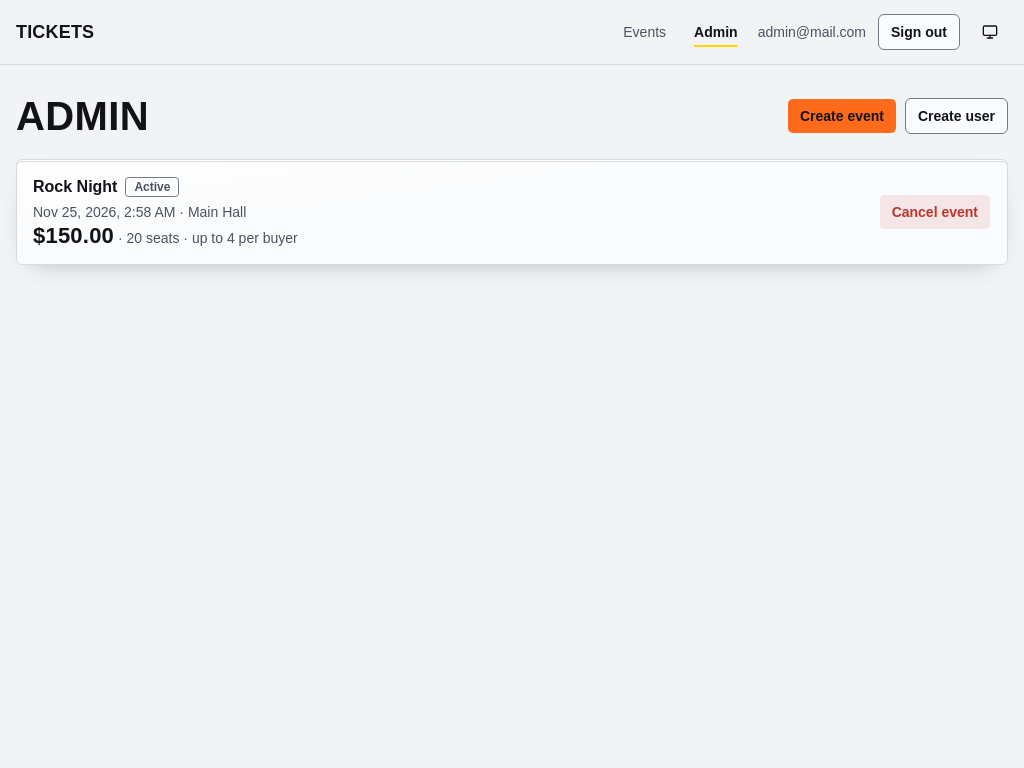
CancelEvent › explains what is lost, cancels on confirm and reports the counts
Click the button with aria-label "Cancel event Rock Night" at (935, 212), box [879,194,991,230]
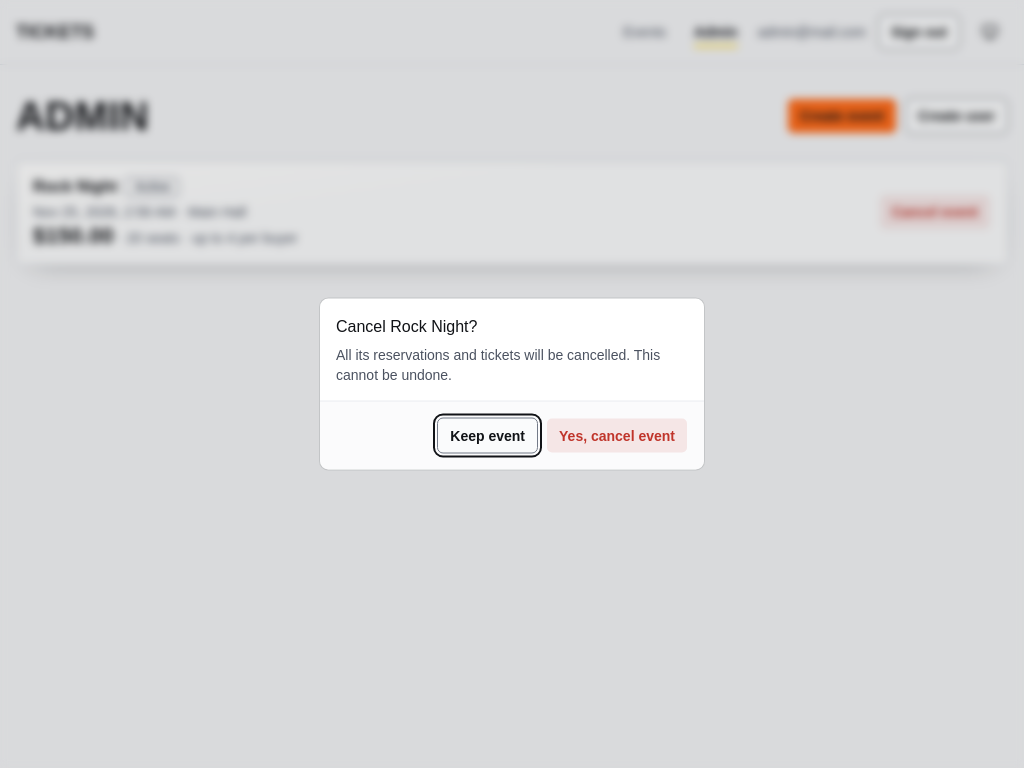
Expected: the dialog shows "All its reservations and tickets will be cancelled", [336,346,660,382]
Expected: the dialog shows "This cannot be undone", [336,346,660,382]
Click the button "Yes, cancel event" at (617, 436), box [546,418,688,454]
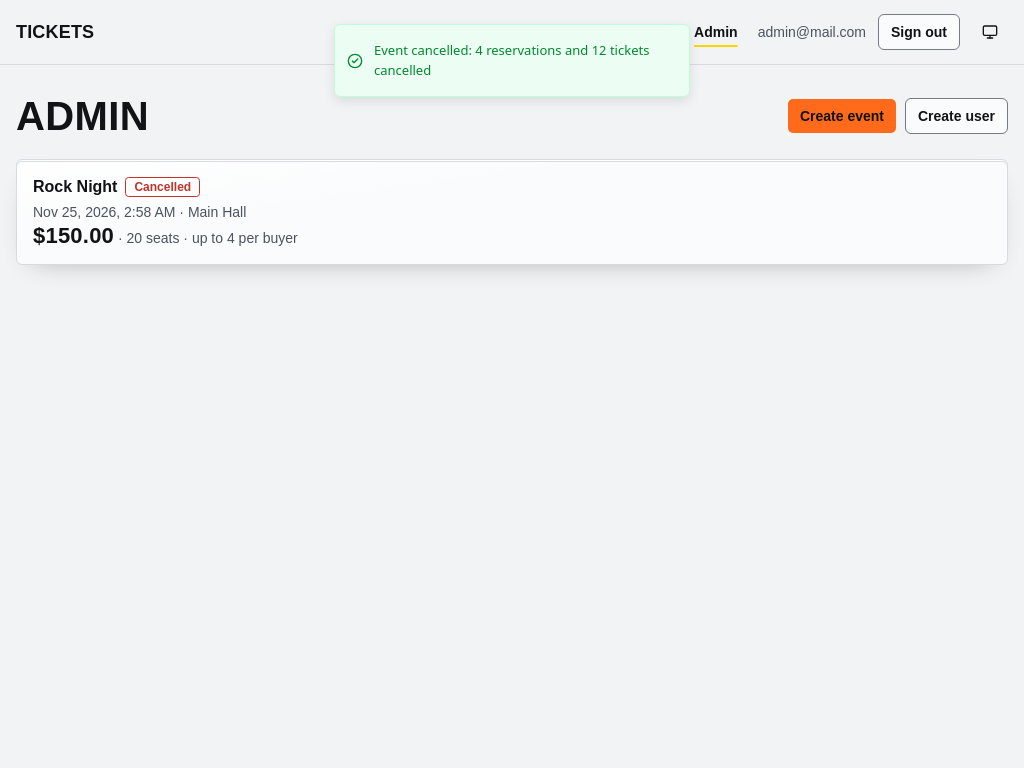
Expected: the text "Event cancelled: 4 reservations and 12 tickets cancelled" is shown, [374,41,673,80]
Expected: the text "Cancelled" is shown, [126,177,200,197]
Expected: the button "Cancel event" is gone
